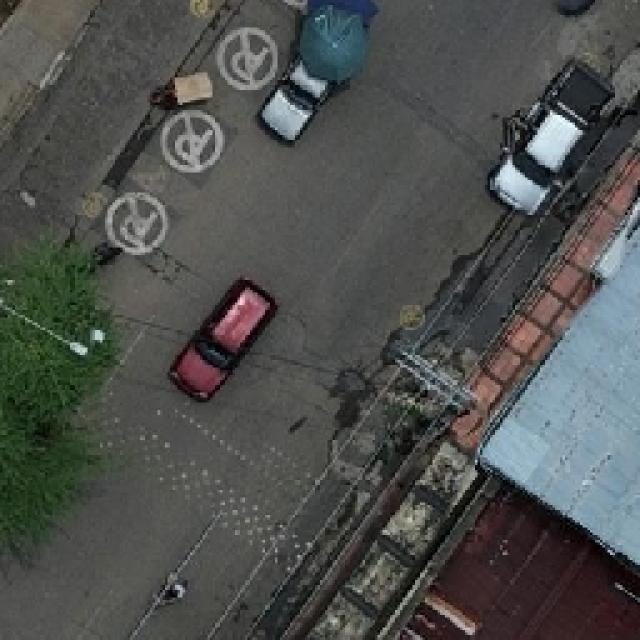vendedor_ambulante: (296, 2, 371, 82)
